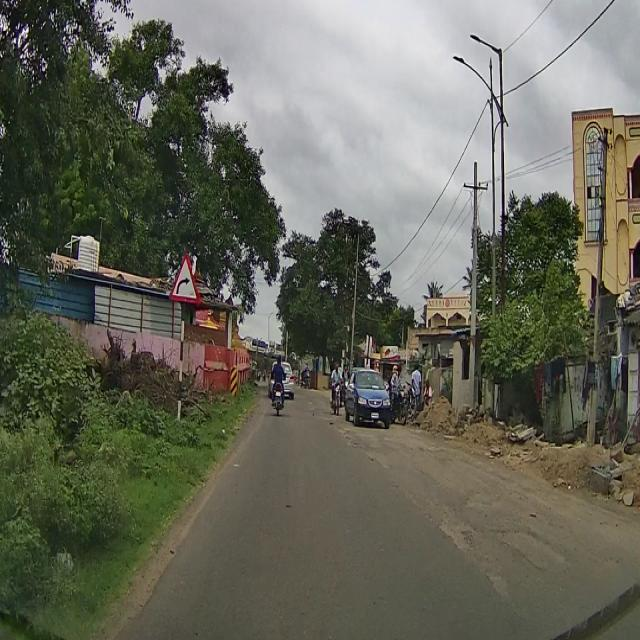right-hand-curve: (168, 245, 202, 302)
